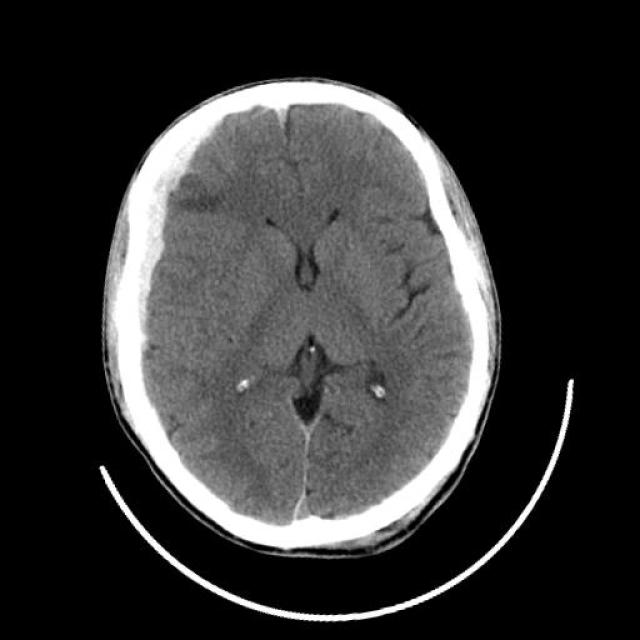Subdural: (84, 109, 278, 399)
